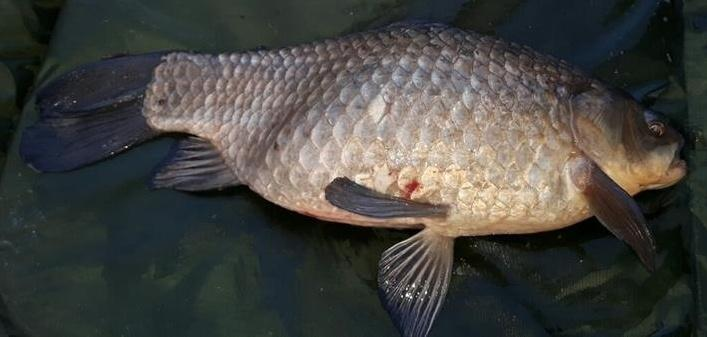Silver Barb: (14, 13, 692, 337)
